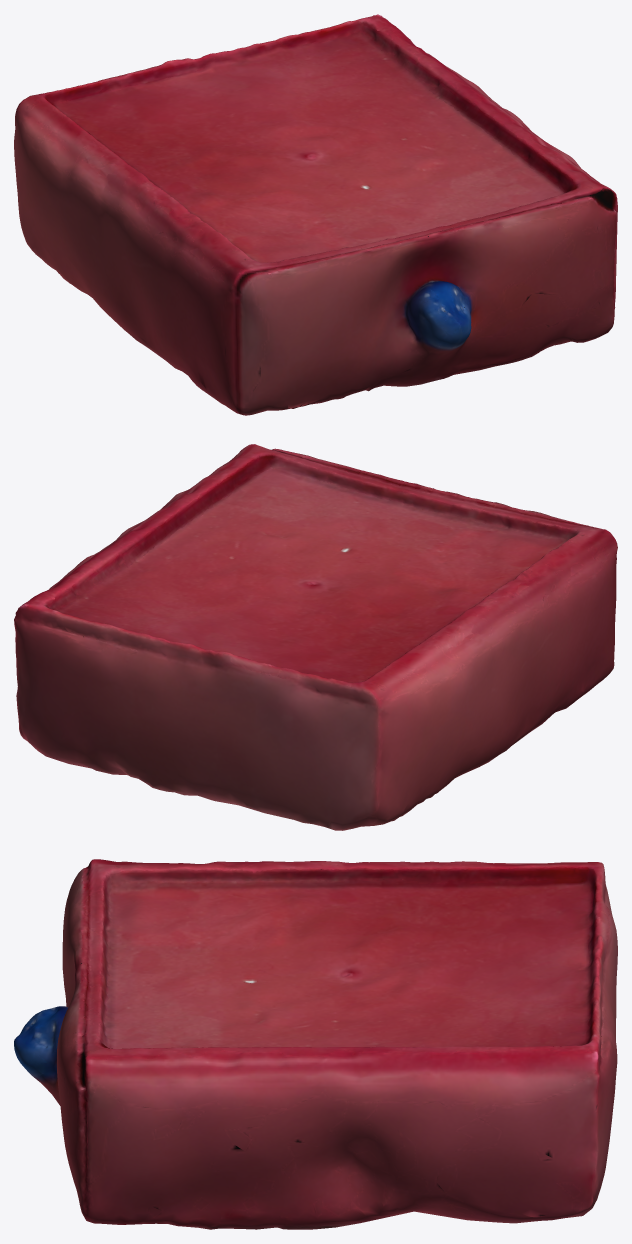
The model's file is source.glb.
The picture shows the model from 3 angles, top to bottom: view 1: azimuth 30°, elevation 25°; view 2: azimuth 150°, elevation 25°; view 3: azimuth 270°, elevation 25°; orthographic projection. The views are drawn at different scales.
Size of the model in its own units: 0.1989 by 0.0778 by 0.2289.
1 material, 1 textured.
